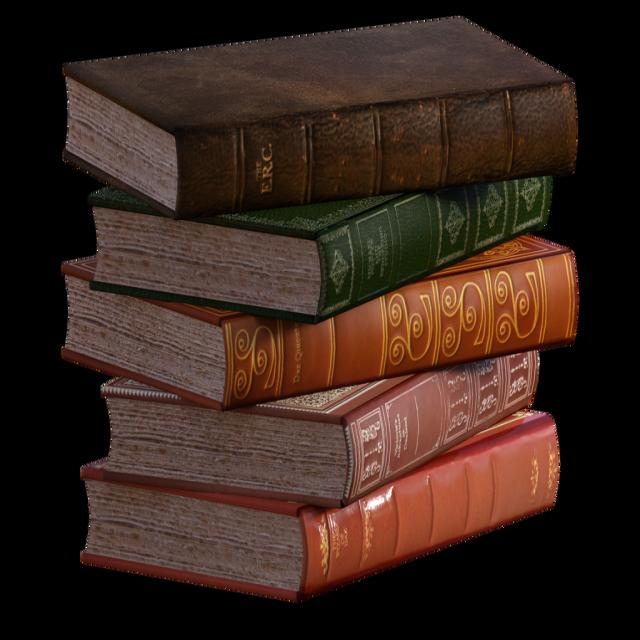Books: (64, 17, 578, 219), (81, 412, 560, 601), (62, 236, 579, 410), (101, 351, 539, 507), (89, 176, 552, 323)
